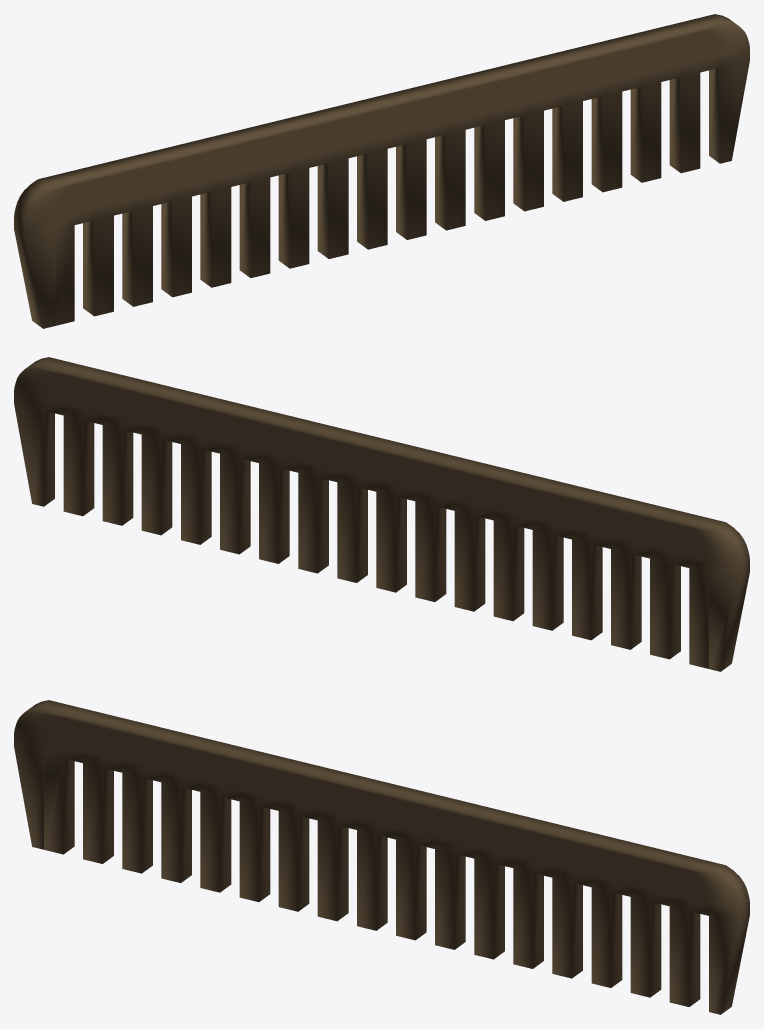
File: Peine2.fbx
3 renders of one model, top to bottom at view 1: azimuth 30°, elevation 25°; view 2: azimuth 150°, elevation 25°; view 3: azimuth 330°, elevation 25°, orthographic.
Parts seen in each view (by area): view 1: Cube.001; view 2: Cube.001; view 3: Cube.001.
Part boxes in pixels (bbox=[...]): Cube.001: bbox=[14, 14, 749, 328]; Cube.001: bbox=[14, 357, 749, 671]; Cube.001: bbox=[14, 700, 749, 1014].
Bounding box in the file's own units: 962 × 178 × 25.66.
